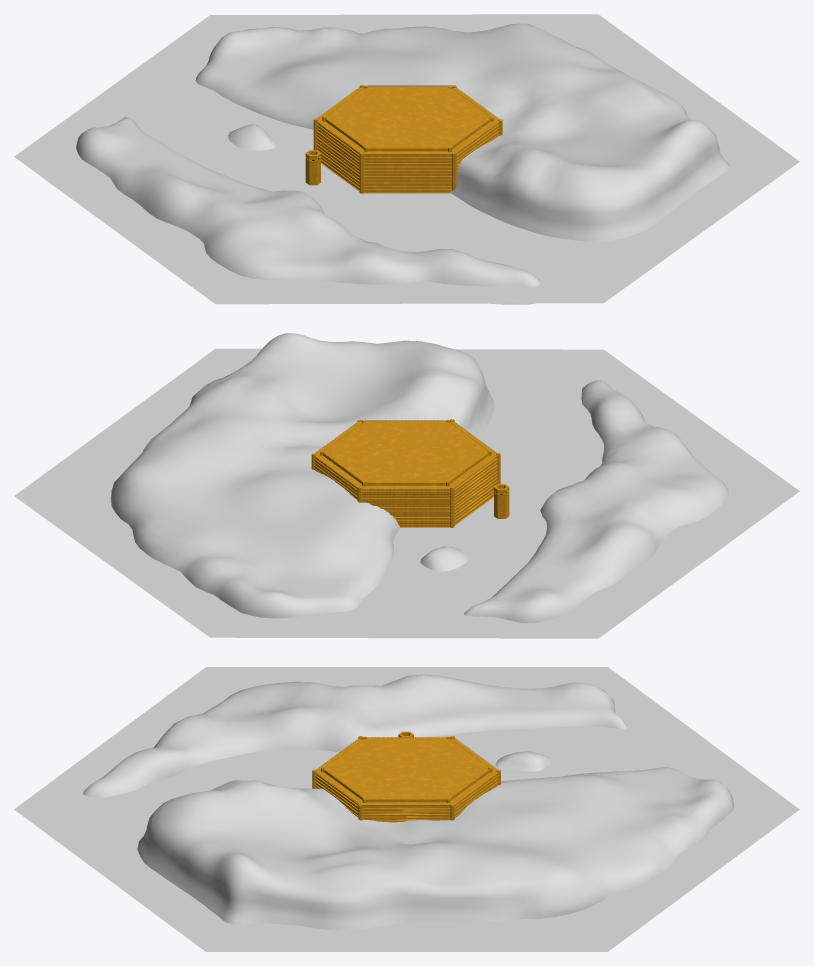
Rendered from NewSoza.fbx.
The picture shows the model from 3 angles, top to bottom: view 1: azimuth 30°, elevation 25°; view 2: azimuth 150°, elevation 25°; view 3: azimuth 270°, elevation 25°; orthographic projection.
Visible parts, largest first — view 1: Retopo_Plane.006, Plane.005, Floor.001, Floor.003, Floor.002; view 2: Retopo_Plane.006, Plane.005, Floor.001, Floor.006, Floor.002; view 3: Retopo_Plane.006, Plane.005, Floor.001.
Boxes of the visible parts, box(x1,y1,x2,y2) form: Retopo_Plane.006: box(76, 23, 730, 304); Plane.005: box(14, 14, 799, 304); Floor.001: box(316, 86, 500, 193); Floor.003: box(313, 85, 502, 193); Floor.002: box(305, 150, 320, 185); Retopo_Plane.006: box(110, 333, 728, 622); Plane.005: box(14, 348, 799, 638); Floor.001: box(313, 421, 497, 527); Floor.006: box(361, 491, 450, 527); Floor.002: box(493, 484, 509, 518); Retopo_Plane.006: box(83, 674, 734, 930); Plane.005: box(14, 667, 799, 951); Floor.001: box(315, 738, 498, 822).
Bounding box in the file's own units: 2373 × 261 × 2768.
